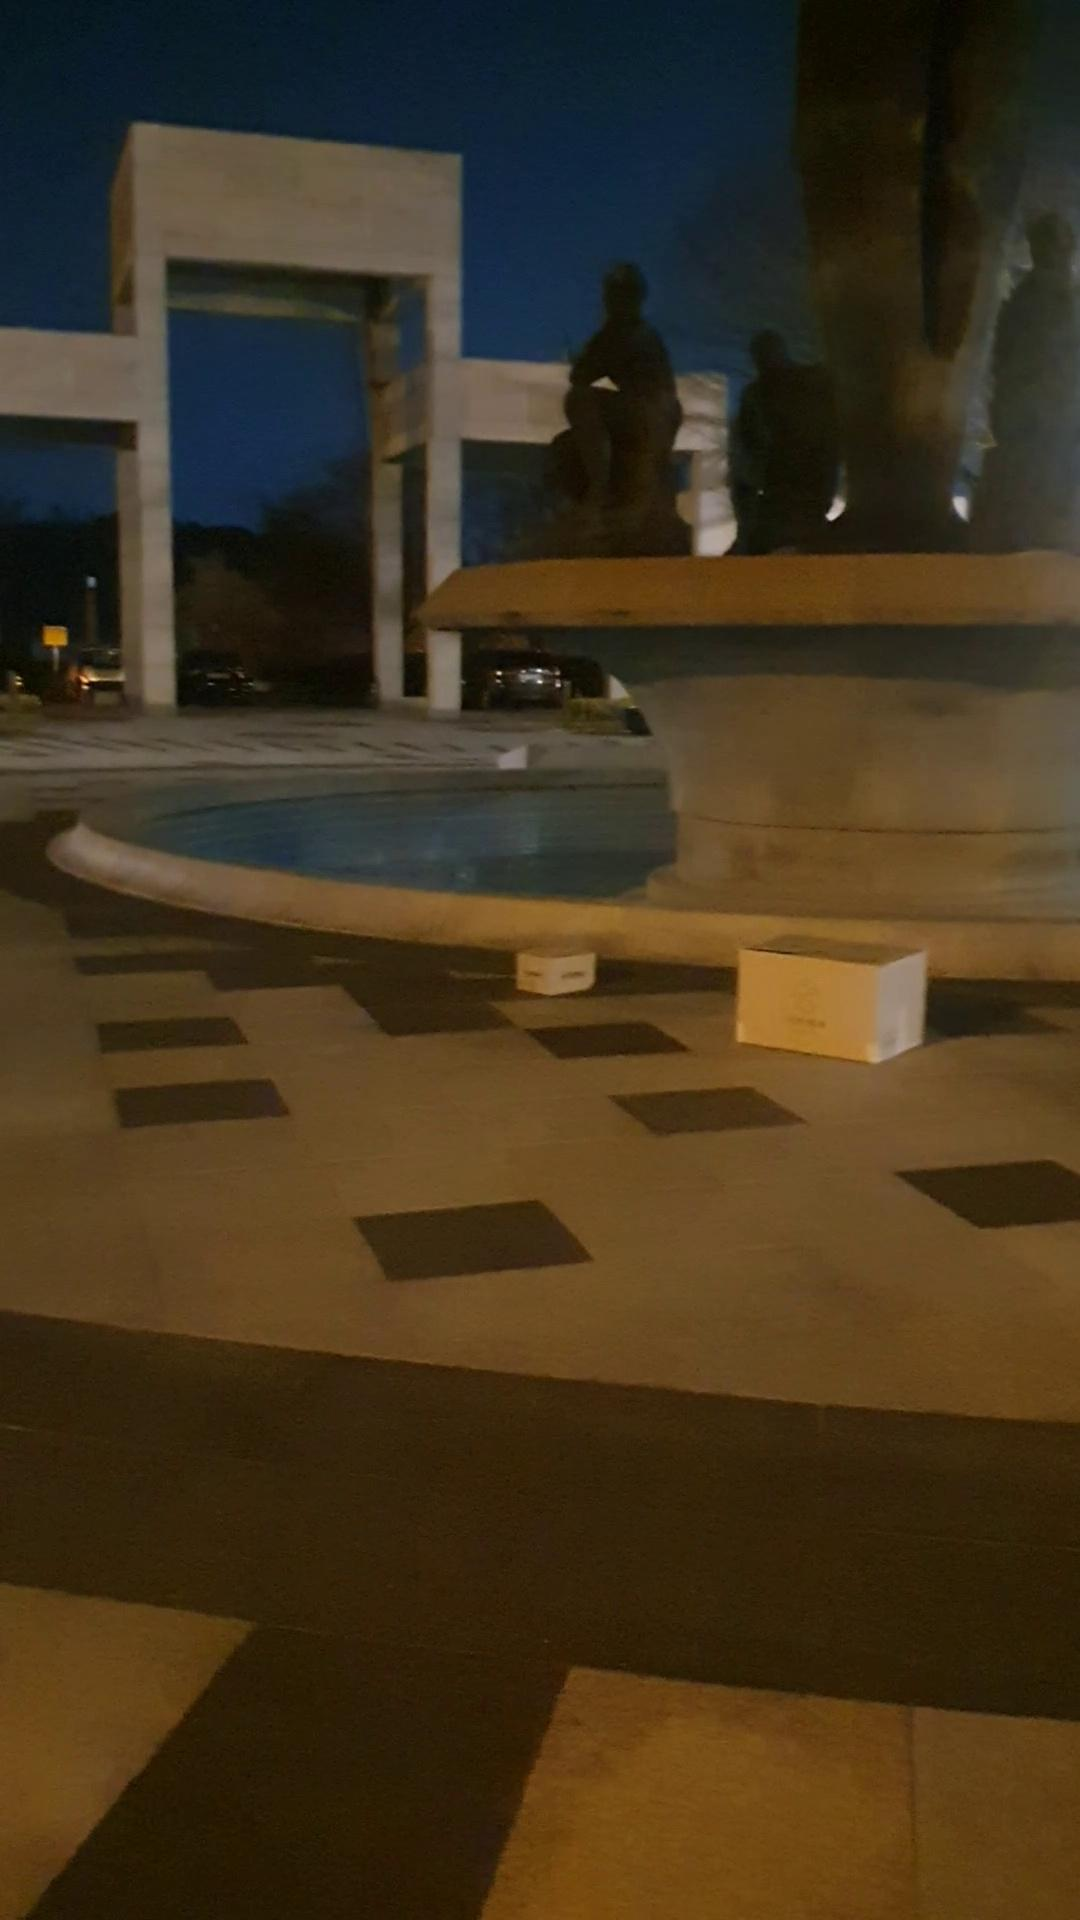Box: (708, 915, 944, 1067), (493, 924, 607, 1007)
